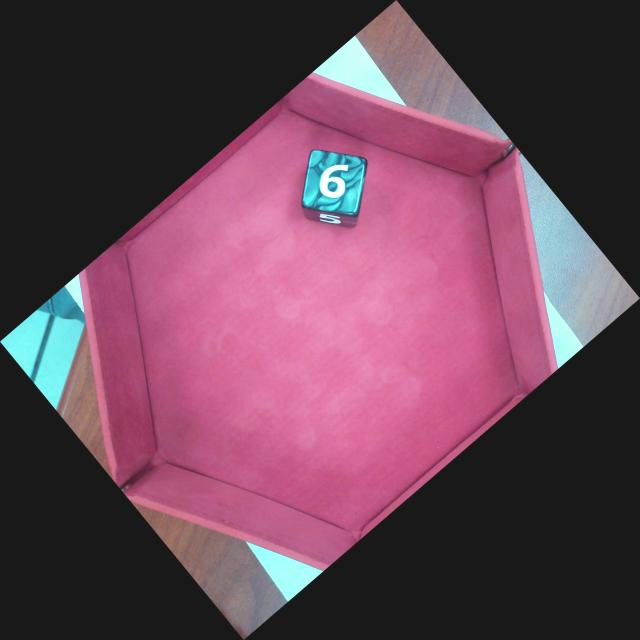dice: (303, 155, 365, 213)
